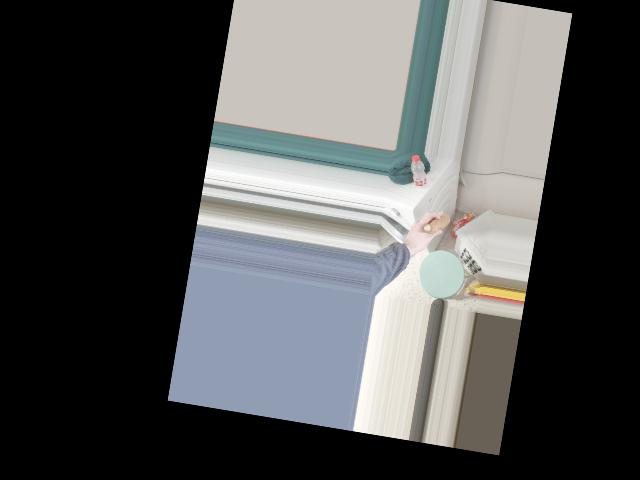sweet_potato: (419, 207, 450, 239)
